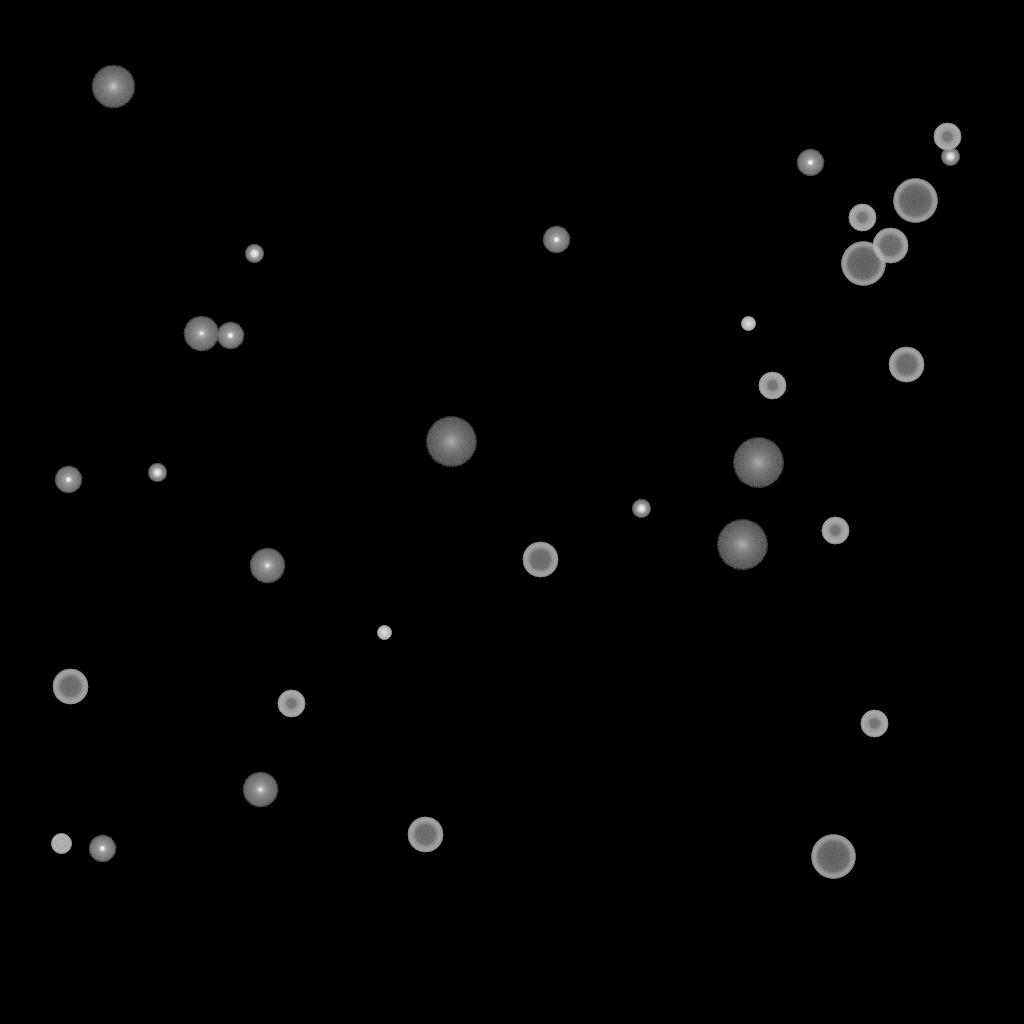depth:-10: (542, 226, 570, 254), (796, 149, 824, 177), (54, 466, 82, 494), (88, 835, 116, 863), (216, 322, 244, 350)
depth:-20: (148, 464, 166, 482), (245, 245, 263, 263), (941, 148, 959, 166), (632, 500, 650, 518)
depth:-30: (377, 626, 391, 640), (741, 317, 755, 331)
depth:-40: (51, 834, 71, 854)
depth:-50: (277, 690, 305, 718), (860, 710, 888, 738), (933, 123, 961, 151), (821, 517, 849, 545), (758, 372, 786, 400), (848, 204, 876, 232)
depth:-60: (407, 817, 443, 853), (888, 347, 924, 383), (872, 228, 908, 264), (52, 669, 88, 705), (522, 542, 558, 578)
depth:-70: (841, 242, 885, 286), (893, 179, 937, 223), (811, 835, 855, 879)
depth:0: (183, 316, 219, 352), (249, 548, 285, 584), (242, 772, 278, 808)
depth:10: (91, 65, 135, 109)
depth:20: (716, 520, 768, 570), (425, 417, 477, 467), (732, 438, 784, 488)
